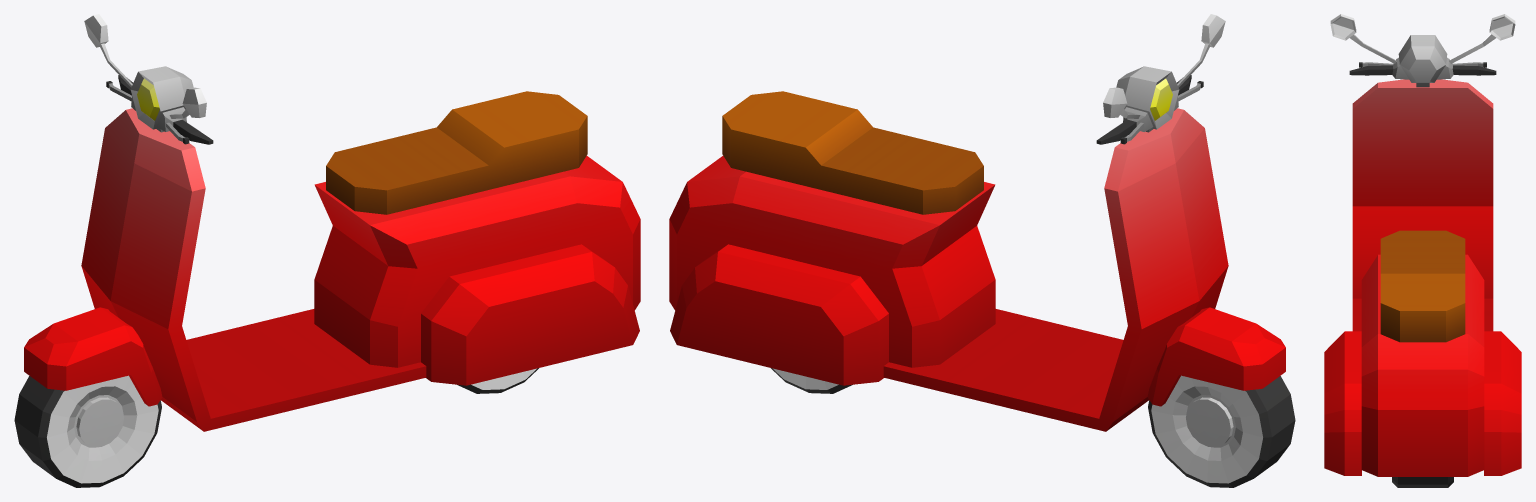
File: Scooter.fbx
3 renders of one model, left to right at view 1: azimuth 30°, elevation 25°; view 2: azimuth 150°, elevation 25°; view 3: azimuth 270°, elevation 25°, orthographic. The views are drawn at different scales.
Visible parts, largest first — view 1: G_Scooter, G_Scooter_FWheel, G_Scooter_BWheel; view 2: G_Scooter, G_Scooter_FWheel, G_Scooter_BWheel; view 3: G_Scooter, G_Scooter_BWheel.
Part boxes in pixels (x1,y1,x2,y2): G_Scooter: (24,14,640,431); G_Scooter_FWheel: (14,375,161,487); G_Scooter_BWheel: (457,368,538,393); G_Scooter: (669,14,1285,431); G_Scooter_FWheel: (1148,375,1295,487); G_Scooter_BWheel: (771,368,852,393); G_Scooter: (1324,14,1521,476); G_Scooter_BWheel: (1392,477,1453,487).
Bounding box in the file's own units: 72.77 × 48.9 × 26.22.
Materials: 1 (1 with a texture image).
